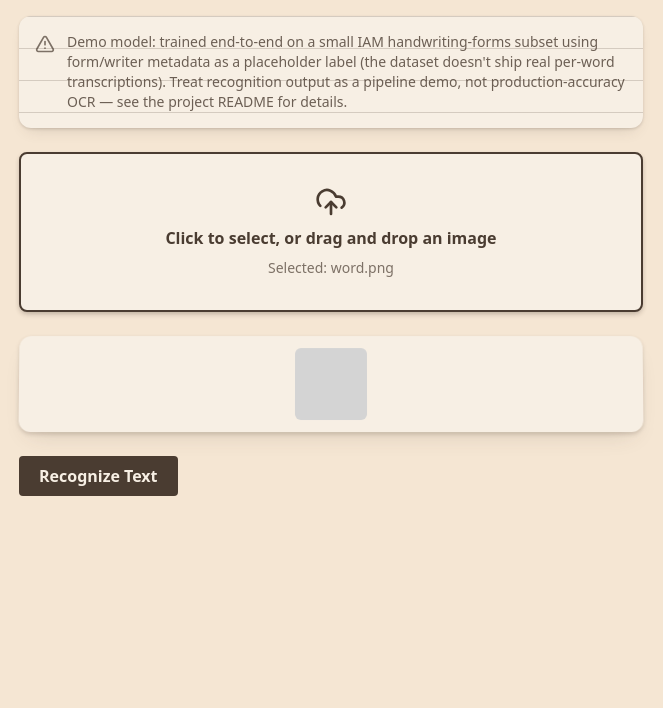
Test case: ImageProcessor › runs recognition on a valid image and renders per-character confidence
Earlier steps of the test are not shown.
Step 1. Click the button "Recognize Text" → (98, 476), box [19,456,178,496]
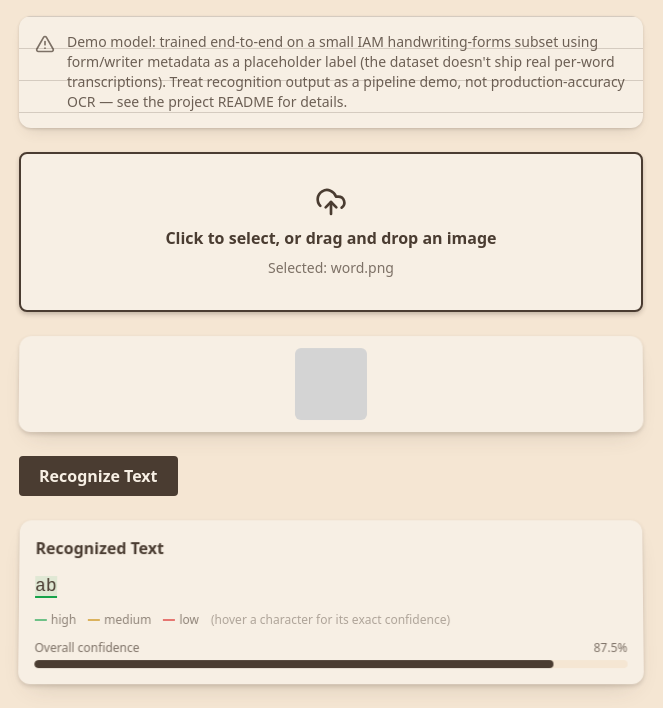
Result: the text "87.5%" is shown at [594,640,628,656]
